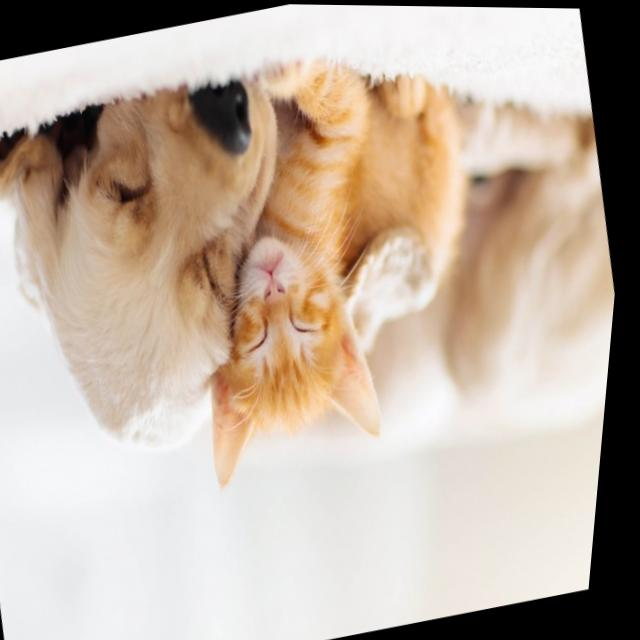Cat: (175, 242, 419, 497)
Dog: (0, 68, 283, 404)
